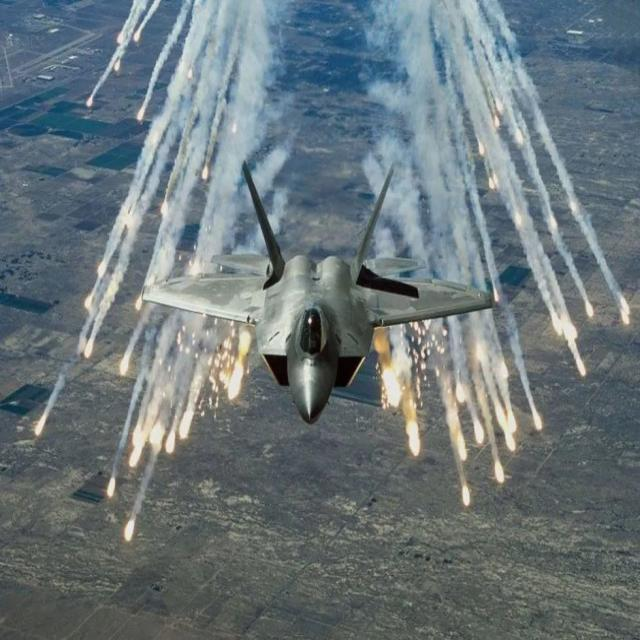F22: (116, 120, 548, 452)
